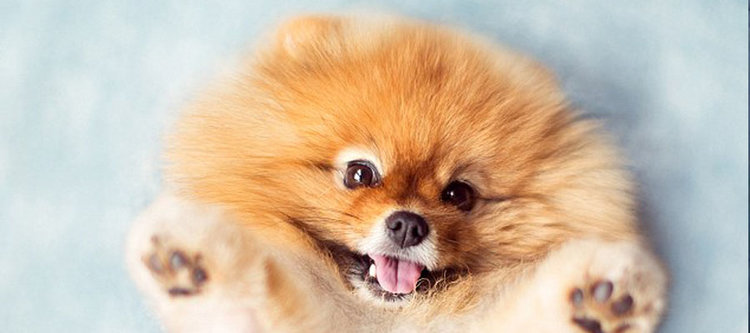pomeranian: (143, 9, 668, 333)
